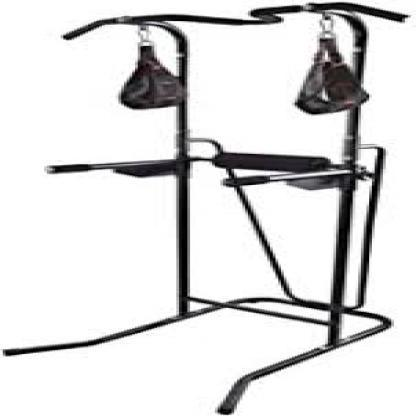chinning dipping: (3, 0, 407, 412)
